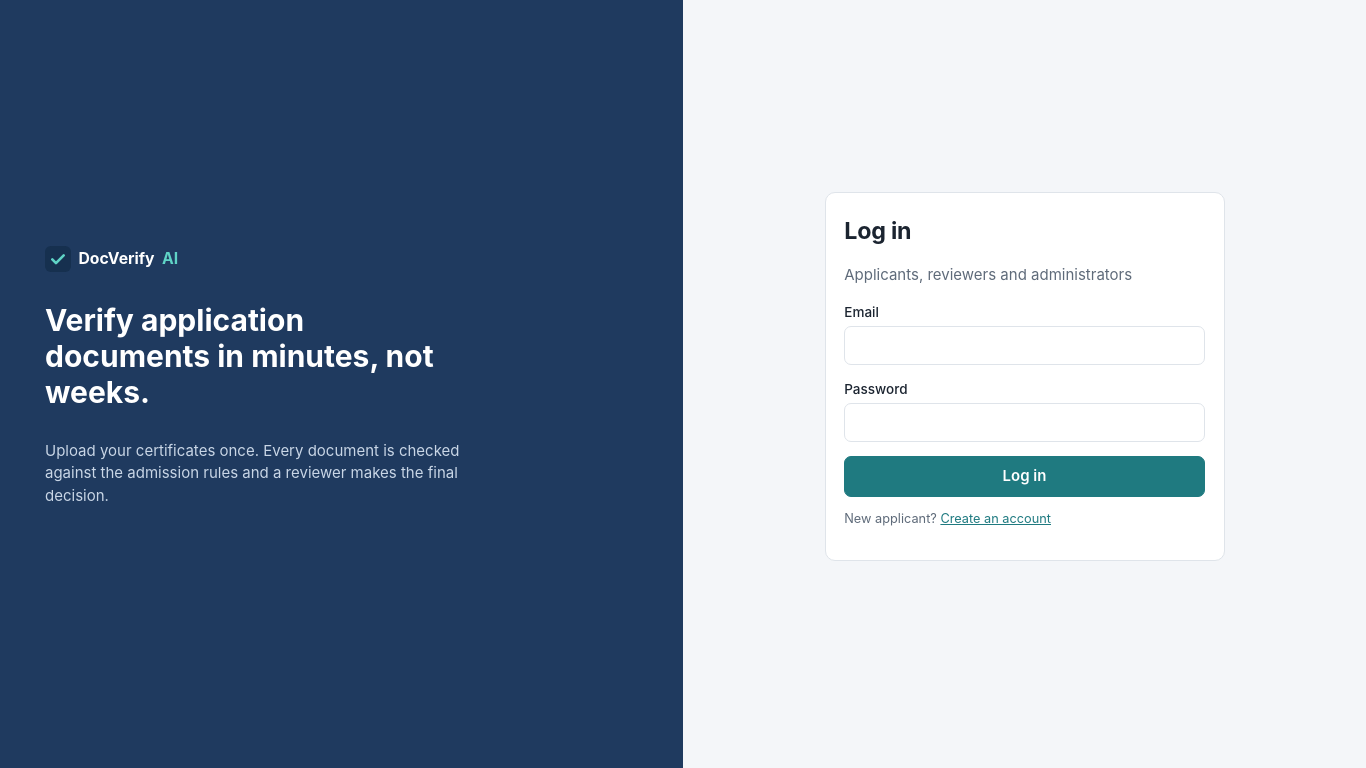
Test: LoginPage › shows the API error message when login fails
The image size is (1366, 768).
Type "arjun@example.com" into the field labelled "Email" at (1025, 346), box [844, 326, 1205, 365]
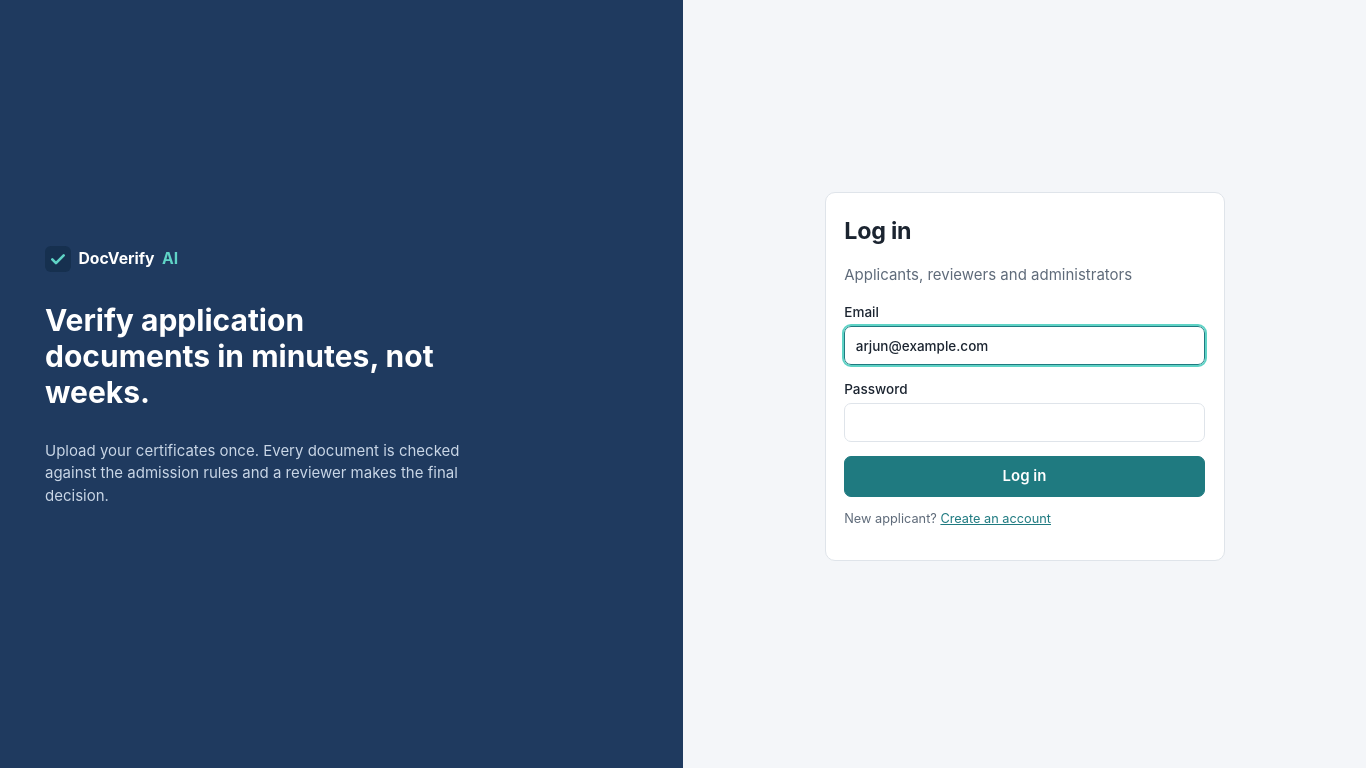
Type "wrong-password" into the password field labelled "Password" at (1025, 423), box [844, 403, 1205, 442]
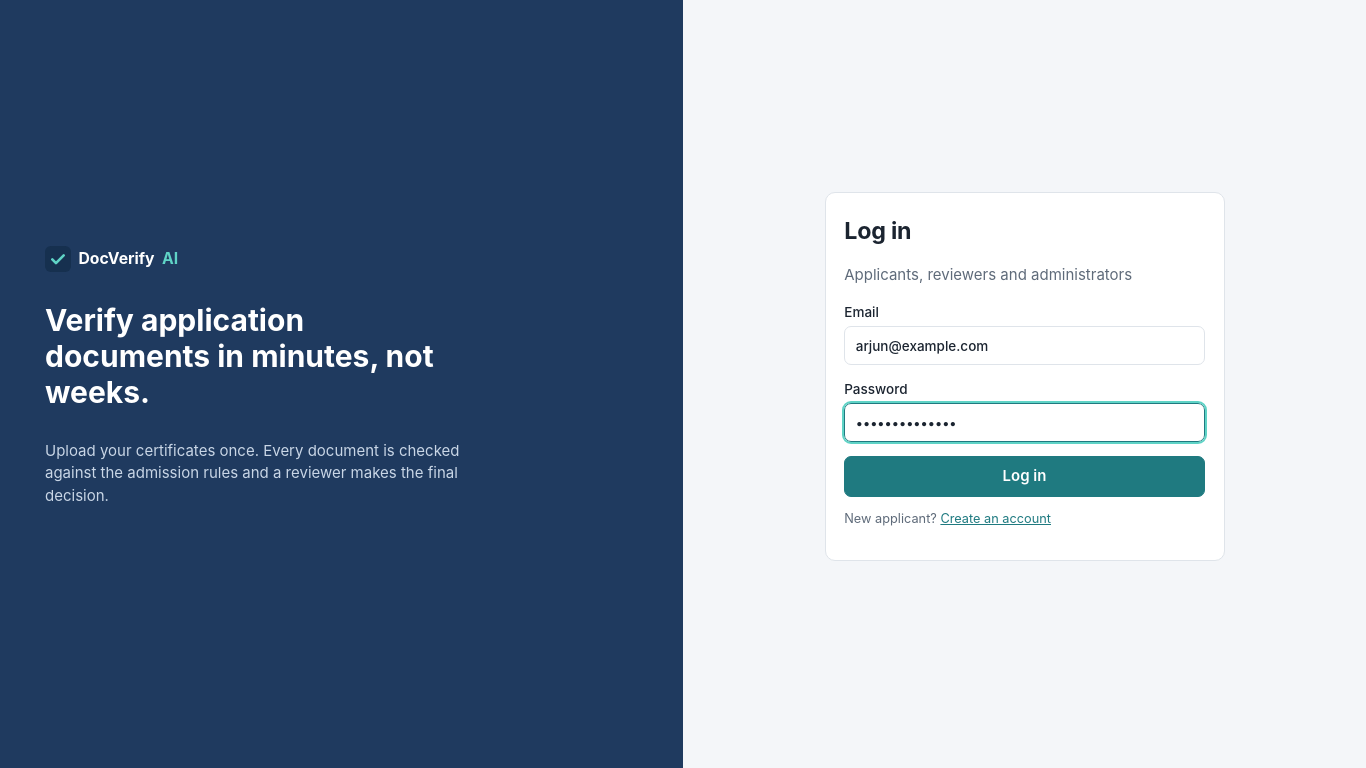
Click the button "Log in" at (1025, 476), box [844, 456, 1205, 496]
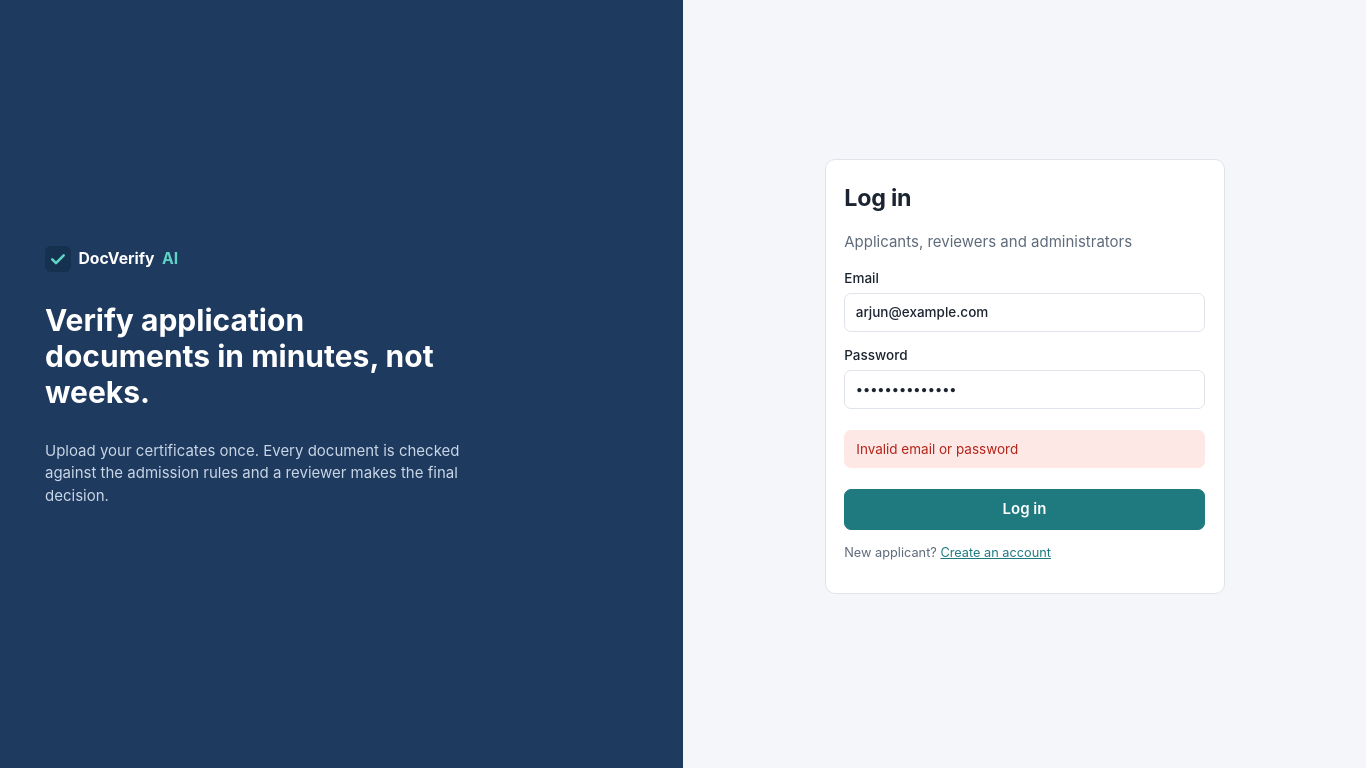
Result: the message reads "Invalid email or password" at [856, 441, 1018, 457]
